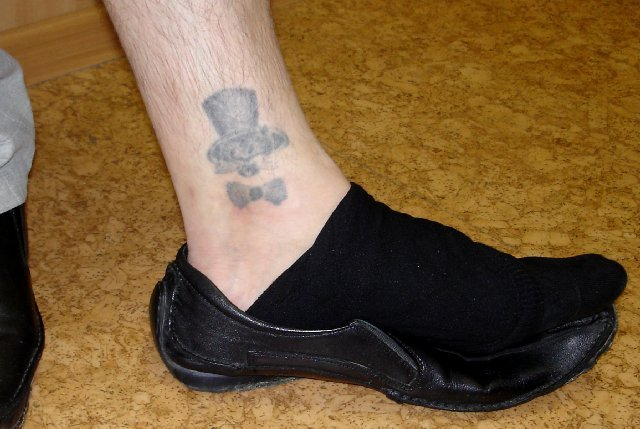tatu8_kot: (196, 80, 305, 208)
